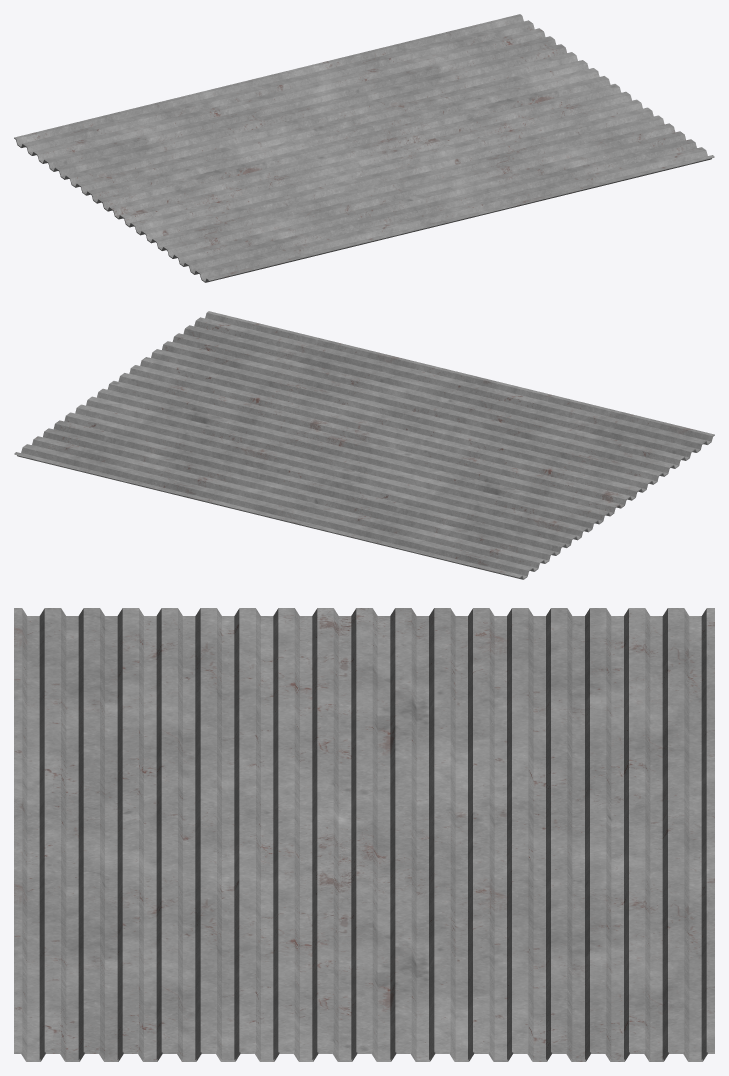
The model's file is SM_Celling_4x6m_01.fbx.
The picture shows the model from 3 angles, top to bottom: view 1: azimuth 30°, elevation 25°; view 2: azimuth 150°, elevation 25°; view 3: azimuth 270°, elevation 25°; orthographic projection. The views are drawn at different scales.
Parts seen in each view (by area): view 1: SM_Celling_4x6m_01_LOD0; view 2: SM_Celling_4x6m_01_LOD0; view 3: SM_Celling_4x6m_01_LOD0.
Boxes of the visible parts, left/top/right/bottom form: SM_Celling_4x6m_01_LOD0: left=14, top=14, right=714, bottom=282; SM_Celling_4x6m_01_LOD0: left=14, top=311, right=714, bottom=579; SM_Celling_4x6m_01_LOD0: left=14, top=608, right=714, bottom=1061.
Bounding box in the file's own units: 600 × 400 × 6.
1 material, 1 textured.
